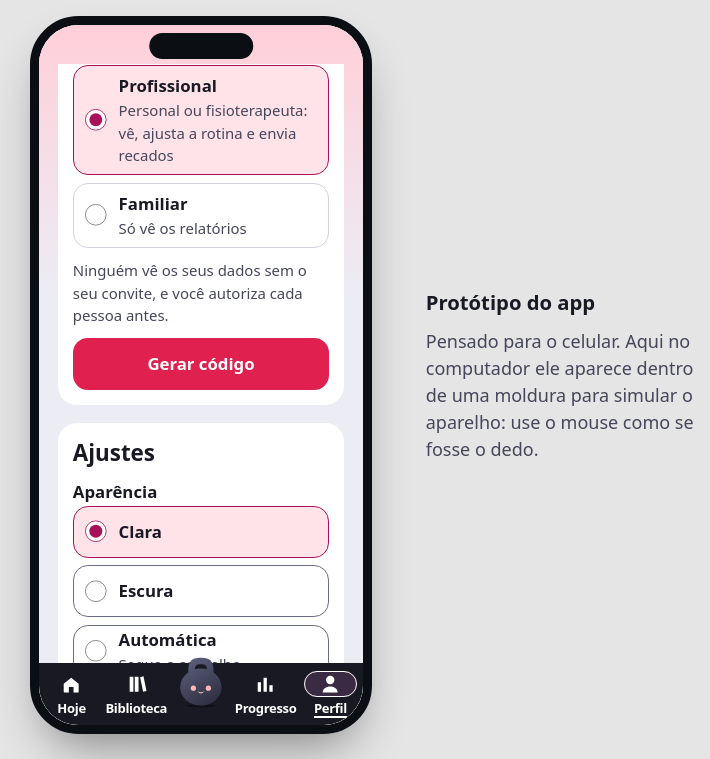
convidar › se a cópia falhar, orienta a anotar o código em vez de quebrar
This screenshot has width=710, height=759.
(page scrolled)
Click the button "Gerar código".
click(201, 364)  # box [73,338,329,390]
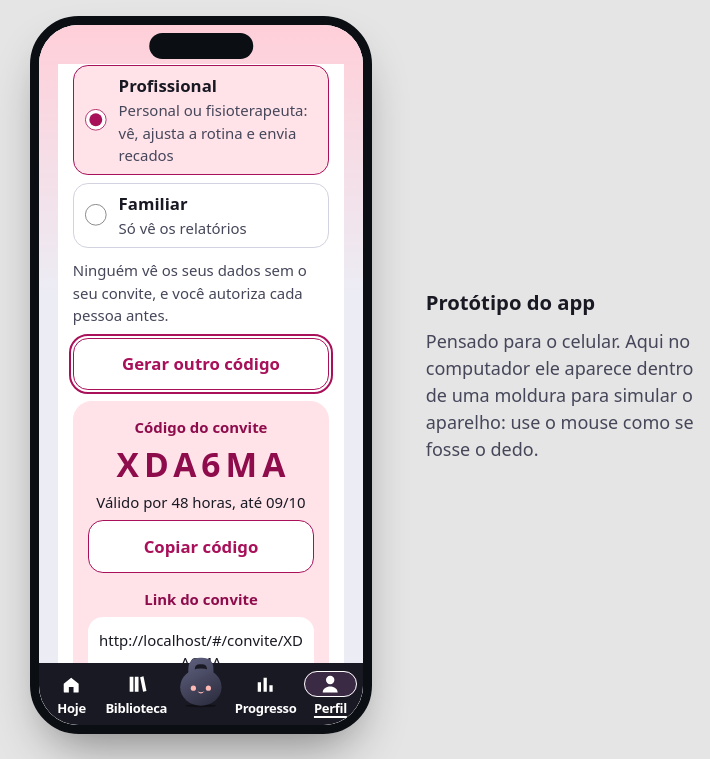
Click the button "Copiar código".
click(201, 547)  # box [88,520,314,573]
(page scrolled)
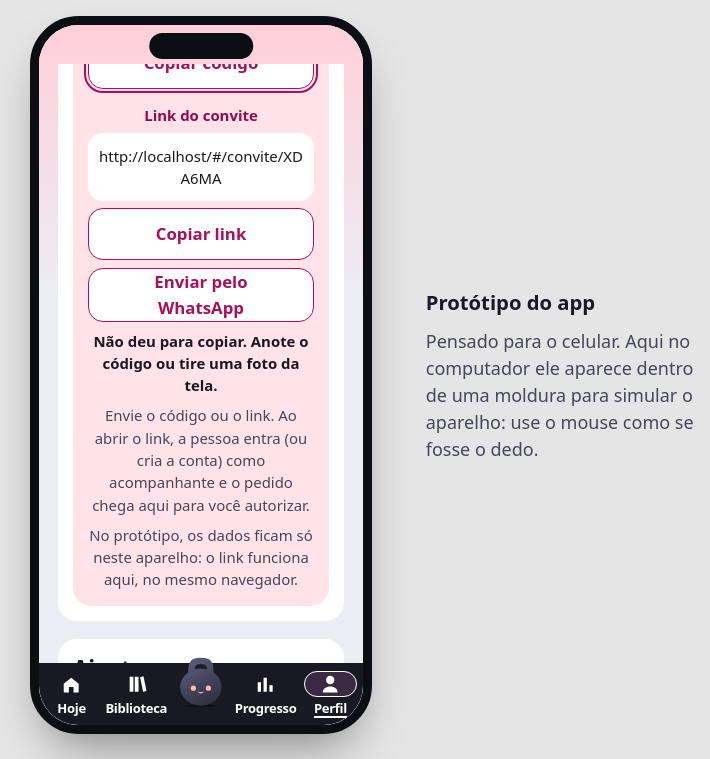
expect the text "Não deu para copiar. Anote o código ou tire uma foto da tela." is shown: met, box [88,330,314,397]
